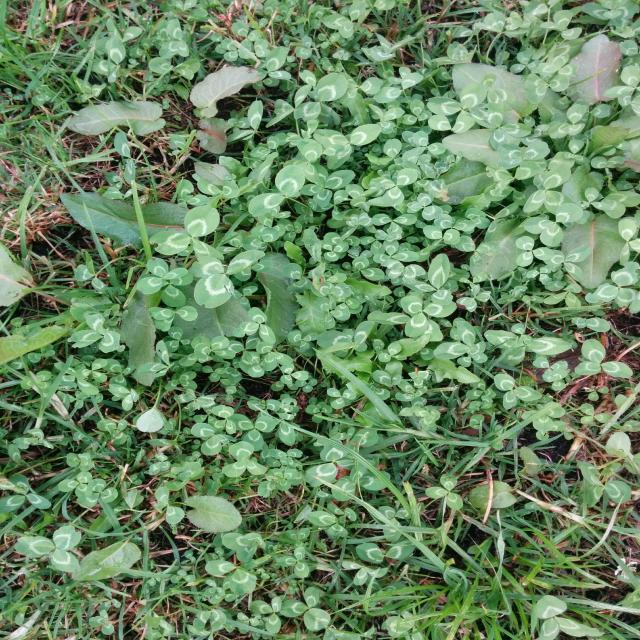Four Leaf Clover: (299, 162, 356, 207)
